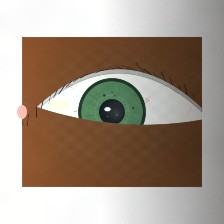pinguecula_lesion: (38, 88, 79, 122)
